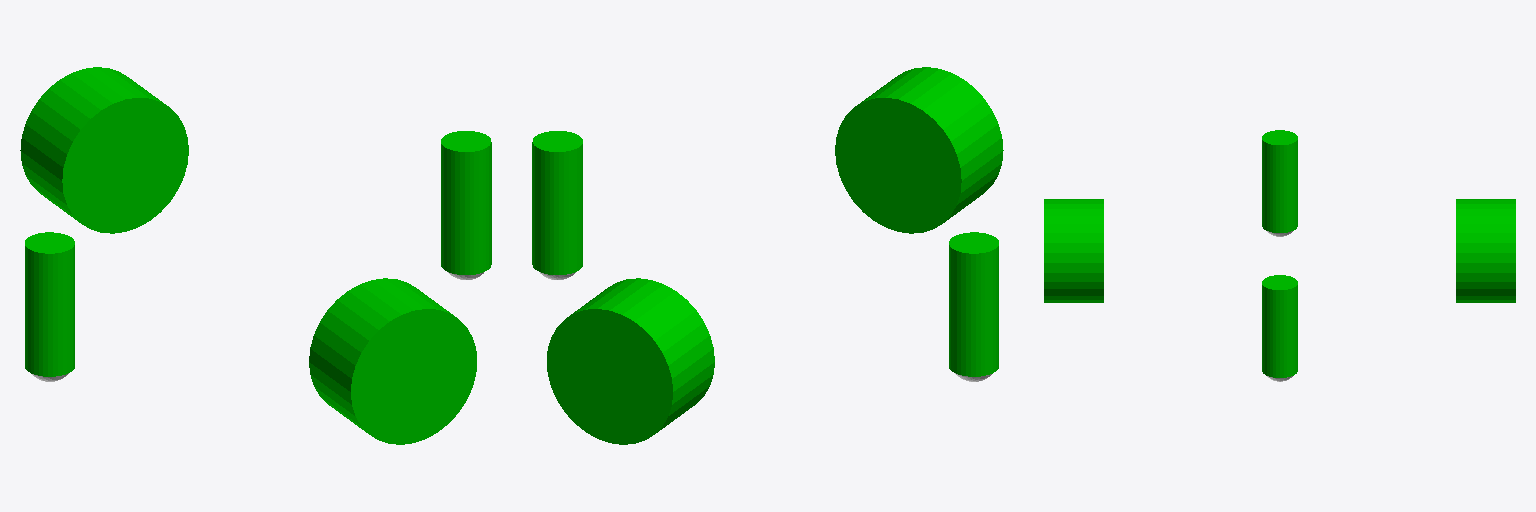
The robot description file, URDF, robot "simbha_model":
<?xml version="1.0" ?>

<robot name="simbha_model" xmlns:xacro="http://www.ros.org/wiki/xacro">
  <!-- Wheels -->
  <!-- in kg-->
  <!-- Defining the colors used in this robot -->
  
  <material name="Black">
    <color rgba="0.0 0.0 0.0 1.0"/>
  </material>
  <material name="Red">
    <color rgba="0.8 0.0 0.0 1.0"/>
  </material>
  <material name="Green">
    <color rgba="0.0 0.8 0.0 1.0"/>
  </material>
  <material name="White">
    <color rgba="1.0 1.0 1.0 1.0"/>
  </material>
  <material name="Blue">
    <color rgba="0.0 0.0 0.8 1.0"/>
  </material>
   --&gt; 

  <!-- BASE-LINK -->
  <!--Actual body/chassis of the robot-->

  <link name="base_link">
    <visual>
      <origin rpy="-1.57079632679 0 1.57079632679" xyz="0 0 0.07"/>
      <geometry>
         <mesh filename="package://simbha_model/urdf/stl/Combine_Lower_Body.stl" scale="0.001 0.001 0.001"/>
      </geometry>
      <material name="White"/>
    </visual>
        <collision>
      <origin rpy="0 0 0 " xyz="0 0 0.07"/>
      <geometry>
        <cylinder length="0.004" radius="0.20"/>
      </geometry>
   <material name="White"/>
    </collision>
  </link>
  <gazebo reference="base_link">
    <material>Gazebo/White</material>
    <turnGravityOff>false</turnGravityOff>
  </gazebo>
<!-- middle link  -->
 
 <link name="middle_link">
    <inertial>
      <mass value="0.2"/>
      <origin rpy="0 0 0" xyz="0 0 0"/>
      <!--The 3x3 rotational inertia matrix. -->
       <inertia ixx="0.0000282916666667" ixy="0" ixz="0" iyy="0.0000282916666667" iyz="0" izz="0.00005625"/>
    </inertial>
    <visual>
      <origin rpy="-1.57079632679 0 1.57079632679" xyz="0 0 0"/>
      <geometry>
         <mesh filename="package://simbha_model/urdf/stl/Middle_body.stl" scale="0.001 0.001 0.001"/>
      </geometry>
      <material name="White"/>
    </visual>
        <collision>
      <origin rpy="-1.57079632679 0 1.57079632679" xyz="0 0 0"/>
      <geometry>
         <mesh filename="package://simbha_model/urdf/stl/Middle_body.stl" scale="0.001 0.001 0.001"/>
      </geometry>
   <material name="White"/>
    </collision>
  </link>
  <gazebo reference="middle_link">
    <material>Gazebo/White</material>
    <turnGravityOff>false</turnGravityOff>
  </gazebo>

<joint name="middle_joint" type="fixed">
    <parent link="base_link"/>
    <child link="middle_link"/>
    <origin rpy="0 0 0" xyz="0 0.0 .07"/>
  </joint>
  <gazebo reference="middle_link">
    <turnGravityOff>false</turnGravityOff>
    <material>Gazebo/White</material>
  </gazebo>
<!-- end middle link -->

<!-- top link -->
 <link name="top_link">
    <inertial>
      <mass value="0.3"/>
      <origin rpy="0 0 0" xyz="0 0 0"/>
      <!--The 3x3 rotational inertia matrix. -->
       <inertia ixx="0.0000282916666667" ixy="0" ixz="0" iyy="0.0000282916666667" iyz="0" izz="0.00005625"/>
    </inertial>
    <visual>
      <origin rpy="-1.57079632679 0 1.57079632679" xyz="0 0 0"/>
      <geometry>
         <mesh filename="package://simbha_model/urdf/stl/Upper_body.stl" scale="0.001 0.001 0.001"/>
      </geometry>
      <material name="White"/>
    </visual>
        <collision>
      <origin rpy="-1.57079632679 0 1.57079632679" xyz="0 0 0"/>
      <geometry>
         <mesh filename="package://simbha_model/urdf/stl/Upper_body.stl" scale="0.001 0.001 0.001"/>
      </geometry>
   <material name="White"/>
    </collision>
  </link>
  <gazebo reference="top_link">
    <material>Gazebo/White</material>
    <turnGravityOff>false</turnGravityOff>
  </gazebo>

<joint name="top_joint" type="fixed">
    <parent link="middle_link"/>
    <child link="top_link"/>
    <origin rpy="0 0 0" xyz="0 0.0 .035"/>
  </joint>
  <gazebo reference="top_link">
    <turnGravityOff>false</turnGravityOff>
    <material>Gazebo/White</material>
  </gazebo>
  <!-- end top link -->


  <link name="right_wheel">
    <visual>
      <origin rpy="1.57079632679 0  0 " xyz="0 0 0"/>
      <geometry>
        <cylinder length="0.04" radius="0.035"/>
      </geometry>
      <material name="Green"/>
    </visual>
    <collision>
      <origin rpy="1.57079632679 0 0 " xyz="0 0 0"/>
      <geometry>
        <cylinder length="0.04" radius="0.035"/>
      </geometry>
    </collision>
    <inertial>
      <mass value="0.5"/>
      <origin xyz="0 0 0"/>
      <inertia ixx="0.0001" ixy="0" ixz="0" iyy="0.0001" iyz="0" izz="0.0001"/>
    </inertial>
  </link>
  <gazebo reference="right_wheel">
    <mu1 value="1.0"/>
    <mu2 value="1.0"/>
    <kp value="100000.0"/>
    <kd value="1.0"/>
    <fdir1 value="1 0 0"/>
    <material>Gazebo/Green</material>
    <turnGravityOff>false</turnGravityOff>
  </gazebo>
  <joint name="right_wheel_joint" type="continuous">
    <parent link="base_link"/>
    <child link="right_wheel"/>
      <origin rpy="0 0 0" xyz="0.0 -0.138 0.035"/>
    <axis rpy="0 0 0" xyz="0 1 0"/>
    <limit effort="100" velocity="100"/>
    <joint_properties damping="0.0" friction="0.0"/>
  </joint>
  <!-- Transmission is important to link the joints and the controller -->


  <transmission name="right_wheel_joint_trans">
    <type>transmission_interface/SimpleTransmission</type>
    <joint name="right_wheel_joint"/>
    <actuator name="right_wheel_joint_motor">
      <hardwareInterface>EffortJointInterface</hardwareInterface>
      <mechanicalReduction>1</mechanicalReduction>
    </actuator>
  </transmission>

 <link name="left_wheel">
    <visual>
      <origin rpy="1.57079632679 0  0 " xyz="0 0 0"/>
      <geometry>
        <cylinder length="0.04" radius="0.035"/>
      </geometry>
      <material name="Green"/>
    </visual>
    <collision>
      <origin rpy="1.57079632679 0 0 " xyz="0 0 0"/>
      <geometry>
        <cylinder length="0.04" radius="0.035"/>
      </geometry>
    </collision>
    <inertial>
      <mass value="0.5"/>
      <origin xyz="0 0 0"/>
      <inertia ixx="0.0001" ixy="0" ixz="0" iyy="0.0001" iyz="0" izz="0.0001"/>
    </inertial>
  </link>
  <gazebo reference="left_wheel">
    <mu1 value="1.0"/>
    <mu2 value="1.0"/>
    <kp value="100000.0"/>
    <kd value="1.0"/>
    <fdir1 value="1 0 0"/>
    <material>Gazebo/Green</material>
    <turnGravityOff>false</turnGravityOff>
  </gazebo>
  <joint name="left_wheel_joint" type="continuous">
    <parent link="base_link"/>
    <child link="left_wheel"/>
    <origin rpy="0 0 0" xyz="0 0.138 0.035"/>
    <axis rpy="0  0" xyz="0 1 0"/>
    <limit effort="100" velocity="100"/>
    <joint_properties damping="0.0" friction="0.0"/>
  </joint>

  <!-- Transmission is important to link the joints and the controller -->
  <transmission name="left_wheel_joint_trans">
    <type>transmission_interface/SimpleTransmission</type>
    <joint name="left_wheel_joint"/>
    <actuator name="left_wheel_joint_motor">
      <hardwareInterface>EffortJointInterface</hardwareInterface>
      <mechanicalReduction>1</mechanicalReduction>
    </actuator>
  </transmission>


  <!--Caster front  -->

  <link name="caster_front_link">
    <visual>
      <origin rpy="1.57079632679 0 0" xyz="0 0 0"/>
      <geometry>
        <sphere radius="0.01214"/>
      </geometry>
      <material name="White"/>
    </visual>
    <collision>
      <geometry>
        <sphere radius="0.007"/>
      </geometry>
      <origin rpy="1.57079632679 0 0" xyz="0 0 0"/>
    </collision>
    <inertial>
      <mass value="0.01"/>
      <origin xyz="0 0 0"/>
      <inertia ixx="0.0000001" ixy="0.0" ixz="0.0" iyy="0.0000001" iyz="0.0" izz="0.0000001"/>
    </inertial>
  </link>
  <joint name="caster_front_joint" type="continuous">
    <parent link="caster_link"/>
    <child link="caster_front_link"/>
    <origin rpy="0 0 0" xyz="0.05 0 -0.0275"/>
    <axis rpy="0 0 0" xyz="0 1 0"/>
  </joint>
  <gazebo reference="caster_front_link">
<!--     <mu1 value="1.0"/>
    <mu2 value="1.0"/>
    <kp value="100000.0"/>
    <kd value="1.0"/>
    <fdir1 value="1 1 0"/> -->
    <turnGravityOff>false</turnGravityOff>
    <material>Gazebo/White</material>
  </gazebo>
  
<link name="caster_link">
    <visual>
      <origin rpy="0 0  0 " xyz="0.05 0 0"/>
      <geometry>
        <cylinder length="0.065" radius="0.01214"/>
      </geometry>
      <material name="Green"/>
    </visual>
    <collision>
      <origin rpy="0 0 0 " xyz="0.05 0 0"/>
      <geometry>
        <cylinder length="0.065" radius="0.005"/>
      </geometry>
    </collision>
    <inertial>
      <mass value="0.05"/>
      <origin xyz="0.05 0 0"/>
      <inertia ixx="0.00001" ixy="0" ixz="0" iyy="0.00001" iyz="0" izz="0.00001"/>
    </inertial>
  </link>
  
<joint name="caster_front_joint_base" type="fixed">
    <parent link="base_link"/>
    <child link="caster_link"/>
    <origin rpy="0 0 0" xyz="0.07 0.0 .035"/>
  </joint>
  <gazebo reference="caster_link">
    <turnGravityOff>false</turnGravityOff>
    <material>Gazebo/White</material>
  </gazebo>

  <!--Caster back  -->

  <link name="caster_back_link">
    <visual>
      <origin rpy="1.57079632679 0 0" xyz="0 0 0"/>
      <geometry>
        <sphere radius="0.01214"/>
      </geometry>
      <material name="White"/>
    </visual>
    <collision>
      <geometry>
        <sphere radius="0.007"/>
      </geometry>
      <origin rpy="1.57079632679 0 0" xyz="0 0 0"/>
    </collision>
    <inertial>
      <mass value="0.01"/>
      <origin xyz="0 0 0"/>
      <inertia ixx="0.0000001" ixy="0.0" ixz="0.0" iyy="0.0000001" iyz="0.0" izz="0.0000001"/>
    </inertial>
  </link>
  <joint name="caster_back_joint" type="continuous">
    <parent link="caster_b_link"/>
    <child link="caster_back_link"/>
    <origin rpy="0 0 0" xyz="0.05 0 -0.0275"/>
    <axis rpy="0 0 0" xyz="0 1 0"/>
  </joint>
  <gazebo reference="caster_front_link">
<!--     <mu1 value="1.0"/>
    <mu2 value="1.0"/>
    <kp value="100000.0"/>
    <kd value="1.0"/>
    <fdir1 value="1 1 0"/> -->
    <turnGravityOff>false</turnGravityOff>
    <material>Gazebo/White</material>
  </gazebo>
  
<link name="caster_b_link">
    <visual>
      <origin rpy="0 0  0 " xyz="0.05 0 0"/>
      <geometry>
        <cylinder length="0.065" radius="0.01214"/>
      </geometry>
      <material name="Green"/>
    </visual>
    <collision>
      <origin rpy="0 0 0 " xyz="0.05 0 0"/>
      <geometry>
        <cylinder length="0.065" radius="0.005"/>
      </geometry>
    </collision>
    <inertial>
      <mass value="0.05"/>
      <origin xyz="0.05 0 0"/>
      <inertia ixx="0.00001" ixy="0" ixz="0" iyy="0.00001" iyz="0" izz="0.00001"/>
    </inertial>
  </link>

<joint name="caster_back_joint_base" type="fixed">
    <parent link="base_link"/>
    <child link="caster_b_link"/>
    <origin rpy="0 0 0" xyz="-0.16 0.0 .035"/>
  </joint>
  <gazebo reference="caster_link">
    <turnGravityOff>false</turnGravityOff>
    <material>Gazebo/White</material>
  </gazebo>

<!-- kinect sensor -->
 <link name="kinect_link">
    <inertial>
      <mass value="0.1"/>
      <origin rpy="0 0 0" xyz="0 0 0"/>
      
       <inertia ixx="0.0000282916666667" ixy="0" ixz="0" iyy="0.0000282916666667" iyz="0" izz="0.00005625"/>
    </inertial>
    <visual>
      <origin rpy="0 0 0" xyz="0 0 0"/>
      <geometry>
            <mesh filename="package://simbha_model/urdf/meshes/kinect.stl" scale="0.001 0.001 0.001"/>
            
        </geometry>
      <material name="Black"/>
    </visual>
        <collision>
      <origin rpy="0 0 0" xyz="0 0 0"/>
      <geometry>
        <cylinder length="0.065" radius="0.005"/>
      </geometry>
   <material name="Black"/>
    </collision>

  </link>

<joint name="kinect_joint" type="fixed">
    <parent link="middle_link"/>
    <child link="kinect_link"/>
      <origin rpy="0 0 0" xyz="0.075 0.0 0.155"/>
  </joint>
  <gazebo reference="kinect_link">
    <turnGravityOff>false</turnGravityOff>
    <material>Gazebo/Black</material>
  
        <sensor name='camera' type='depth'>
          <always_on>1</always_on>
          <update_rate>20</update_rate>
          <camera name='__default__'>
            <horizontal_fov>1.0472</horizontal_fov>
            <image>
              <format>B8G8R8</format>
              <width>640</width>
              <height>480</height>
            </image>
            <clip>
              <near>0.05</near>
              <far>8</far>
            </clip>
          </camera>
          <plugin name='kinect_camera_controller' filename='libgazebo_ros_openni_kinect.so'>
            <cameraName>camera</cameraName>
            <alwaysOn>true</alwaysOn>
            <updateRate>10</updateRate>
            <imageTopicName>rgb/image_raw</imageTopicName>
            <depthImageTopicName>depth/image_raw</depthImageTopicName>
            <pointCloudTopicName>depth/points</pointCloudTopicName>
            <cameraInfoTopicName>rgb/camera_info</cameraInfoTopicName>
            <depthImageCameraInfoTopicName>depth/camera_info</depthImageCameraInfoTopicName>
            <frameName>kinect_link</frameName>
            <baseline>0.1</baseline>
            <distortion_k1>0.0</distortion_k1>
            <distortion_k2>0.0</distortion_k2>
            <distortion_k3>0.0</distortion_k3>
            <distortion_t1>0.0</distortion_t1>
            <distortion_t2>0.0</distortion_t2>
            <pointCloudCutoff>0.4</pointCloudCutoff>
            <robotNamespace>/</robotNamespace>
          </plugin>
          <pose>-0.087 -0.0015 0.2972 1.58 0 0</pose>
        </sensor>
        <sensor type="ray" name="head_hokuyo_sensor">
        <pose>-0.087 -0.0015 0.2972 1.58 0 0</pose>
        <visualize>true</visualize>
        <update_rate>10</update_rate>
        <ray>
            <scan>
            <horizontal>
                <samples>640</samples>
                <resolution>1</resolution>
                <min_angle>-2.26889</min_angle>
                <max_angle>2.26889</max_angle>
            </horizontal>
            </scan>
            <range>
            <min>0.05</min>
            <max>2.0</max>
            <resolution>0.01</resolution>
            </range>
        </ray>
        <plugin name="gazebo_ros_head_hokuyo_controller" filename="libgazebo_ros_laser.so">
            <topicName>/simbha_bot/laser/scan</topicName>
            <frameName>kinect_link</frameName>
        </plugin>
        </sensor>
        </gazebo>
<!-- kinect sensor end -->
<gazebo>
    <plugin filename="libgazebo_ros_diff_drive.so" name="differential_drive_controller_front">
      <rosDebugLevel>Debug</rosDebugLevel>
      <publishWheelTF>True</publishWheelTF>
      <publishTf>1</publishTf>
      <publishWheelJointState>true</publishWheelJointState>
      <alwaysOn>true</alwaysOn>
      <updateRate>10.0</updateRate>
      <leftJoint>left_wheel_joint</leftJoint>
      <rightJoint>right_wheel_joint</rightJoint>
      <wheelSeparation>0.3</wheelSeparation>
      <wheelDiameter>0.065</wheelDiameter>
      <broadcastTF>1</broadcastTF>
      <wheelTorque>30</wheelTorque>
      <wheelAcceleration>1.8</wheelAcceleration>
      <commandTopic>cmd_vel</commandTopic>
      <odometryFrame>odom</odometryFrame>
      <odometryTopic>odom</odometryTopic>
      <robotBaseFrame>base_link</robotBaseFrame>
    </plugin>
  </gazebo>
 
</robot>

--- Render facts (derived) ---
The picture shows the robot from 3 angles, left to right: view 1: azimuth 30°, elevation 25°; view 2: azimuth 150°, elevation 25°; view 3: azimuth 270°, elevation 25°; orthographic projection.
Model simbha_model with 10 links and 9 joints (4 continuous, 5 fixed), rooted at base_link, posed all joints at 0.
Visible links, largest first — view 1: left_wheel, right_wheel, caster_link, caster_b_link; view 2: right_wheel, left_wheel, caster_link, caster_b_link; view 3: right_wheel, left_wheel, caster_link, caster_b_link.
Link boxes in pixels (x1,y1,x2,y2): left_wheel: [20, 67, 188, 233]; right_wheel: [309, 278, 476, 444]; caster_link: [441, 131, 491, 274]; caster_b_link: [25, 232, 74, 376]; right_wheel: [835, 67, 1003, 233]; left_wheel: [547, 278, 714, 444]; caster_link: [532, 131, 582, 274]; caster_b_link: [949, 232, 998, 376]; right_wheel: [1044, 199, 1103, 302]; left_wheel: [1456, 199, 1515, 302]; caster_link: [1262, 275, 1297, 377]; caster_b_link: [1262, 130, 1297, 232].
Bounding box of the posed robot: 0.2543 × 0.316 × 0.0746 m (x, y, z).
0 mesh visuals loaded from 4 distinct referenced files (none loaded); not drawn: 4 (reference not matched to a file when rendering).
